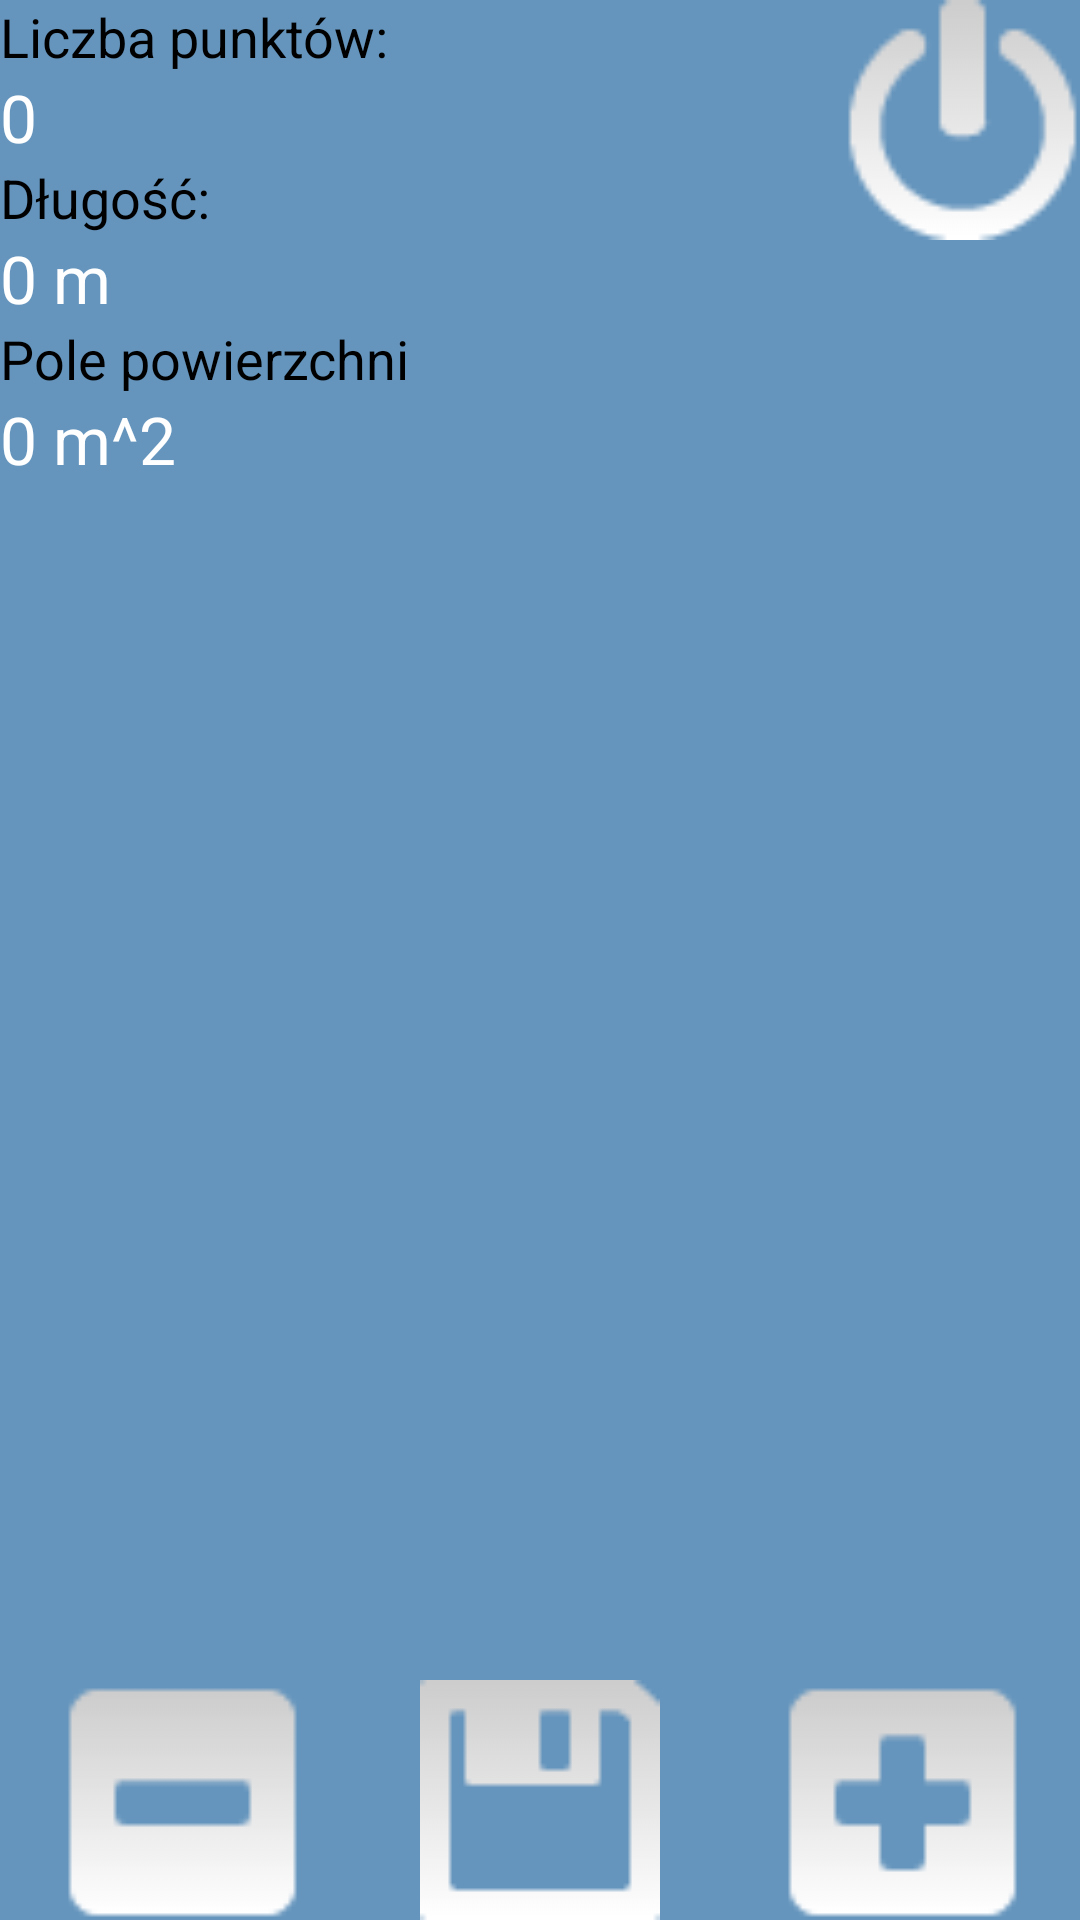

Screen size 1080 × 1920. Icon name, then its box in pixels as (x1, y1, x2, y2):
minus: (68, 1689, 297, 1917)
plus: (788, 1689, 1017, 1917)
save: (420, 1680, 660, 1920)
